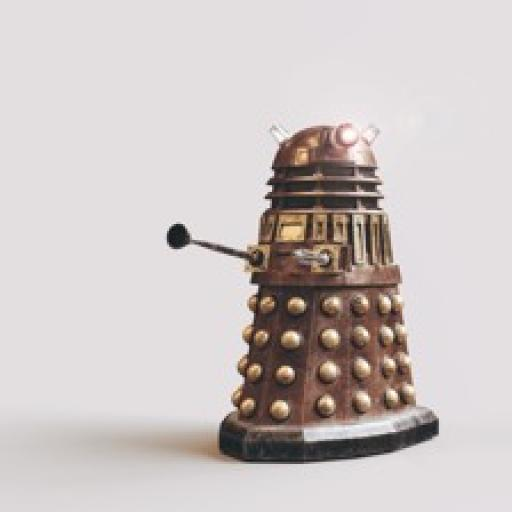dalek: (154, 120, 443, 464)
